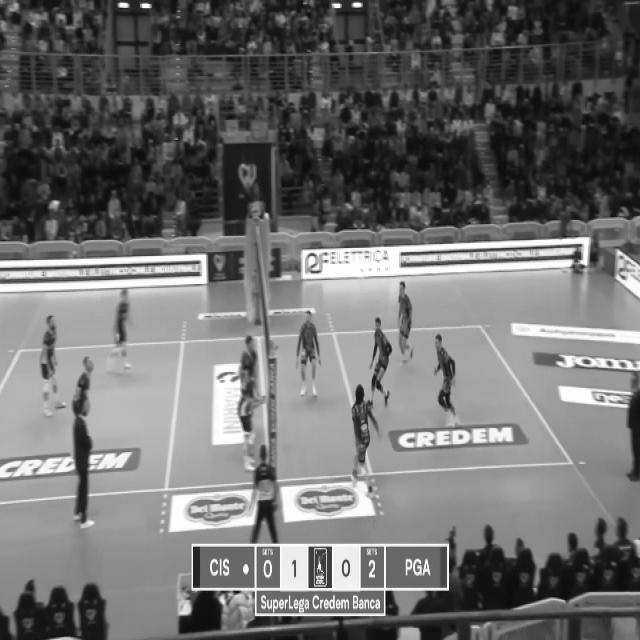volleyball court: (0, 322, 575, 502)
